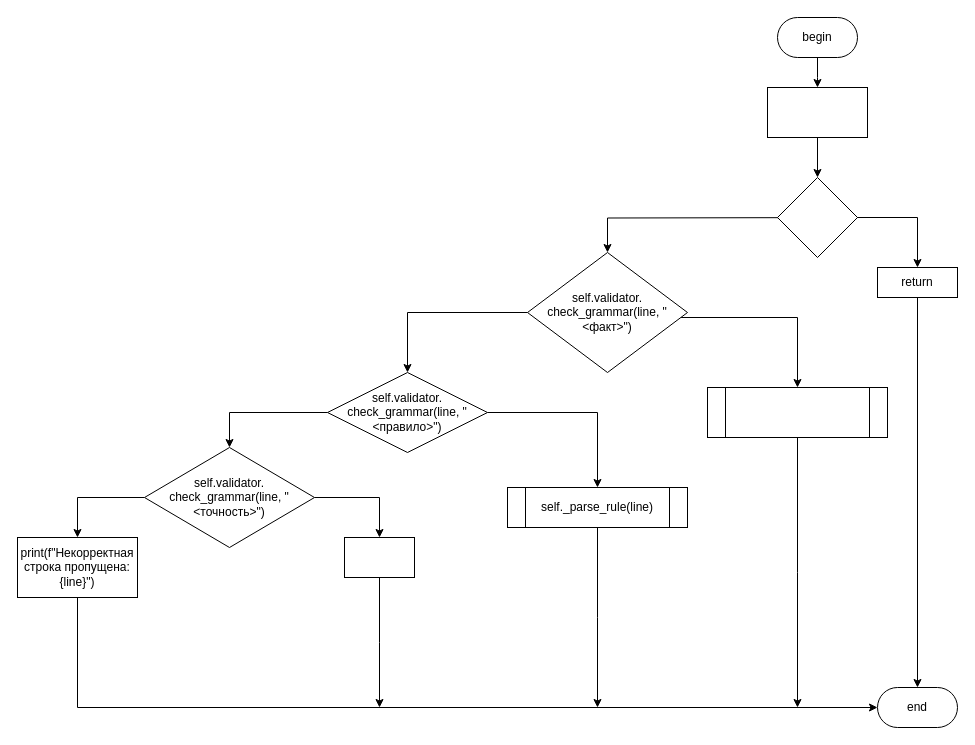
Image size: 975x745. Some labels were removed from this diagram. Each missing label, with the centre of its shape:
"line = line.strip()" belongs at point (817, 112).
"not line" belongs at point (817, 217).
"pass" belongs at point (379, 557).
"self._parse_fact(line)" belongs at point (797, 412).
